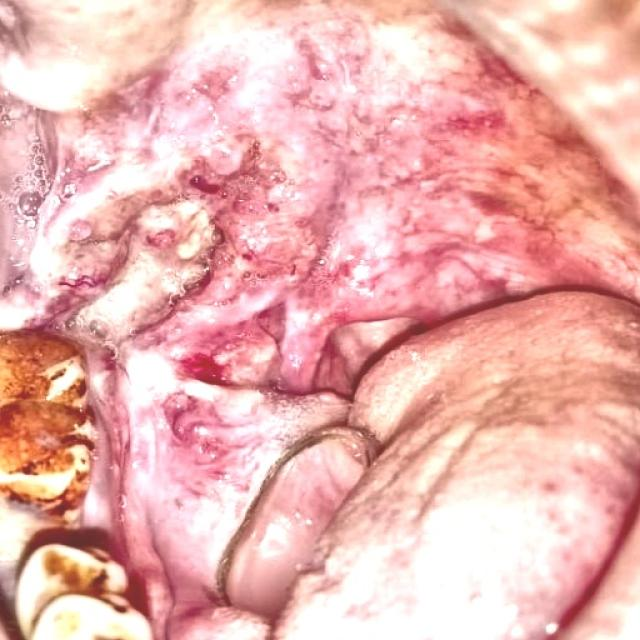cancer-detection: (5, 20, 618, 622)
processing_area: (2, 0, 639, 639)
